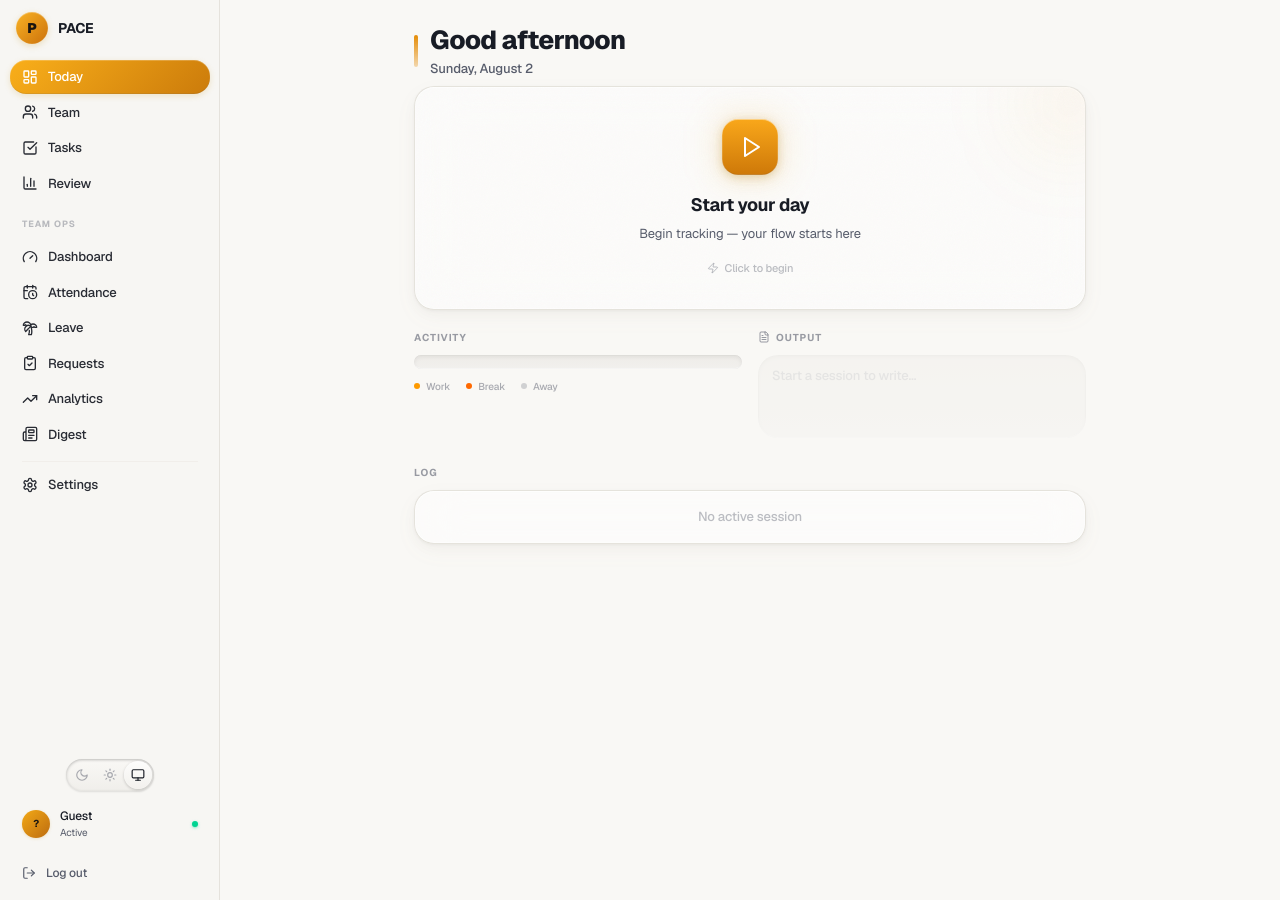
Scenario: Sidebar navigation › navigates to /review when Review nav item is clicked
The width and height of the screenshot is (1280, 900).
Step 1. Click the link "Review" → (57, 183), box [22, 174, 91, 192]
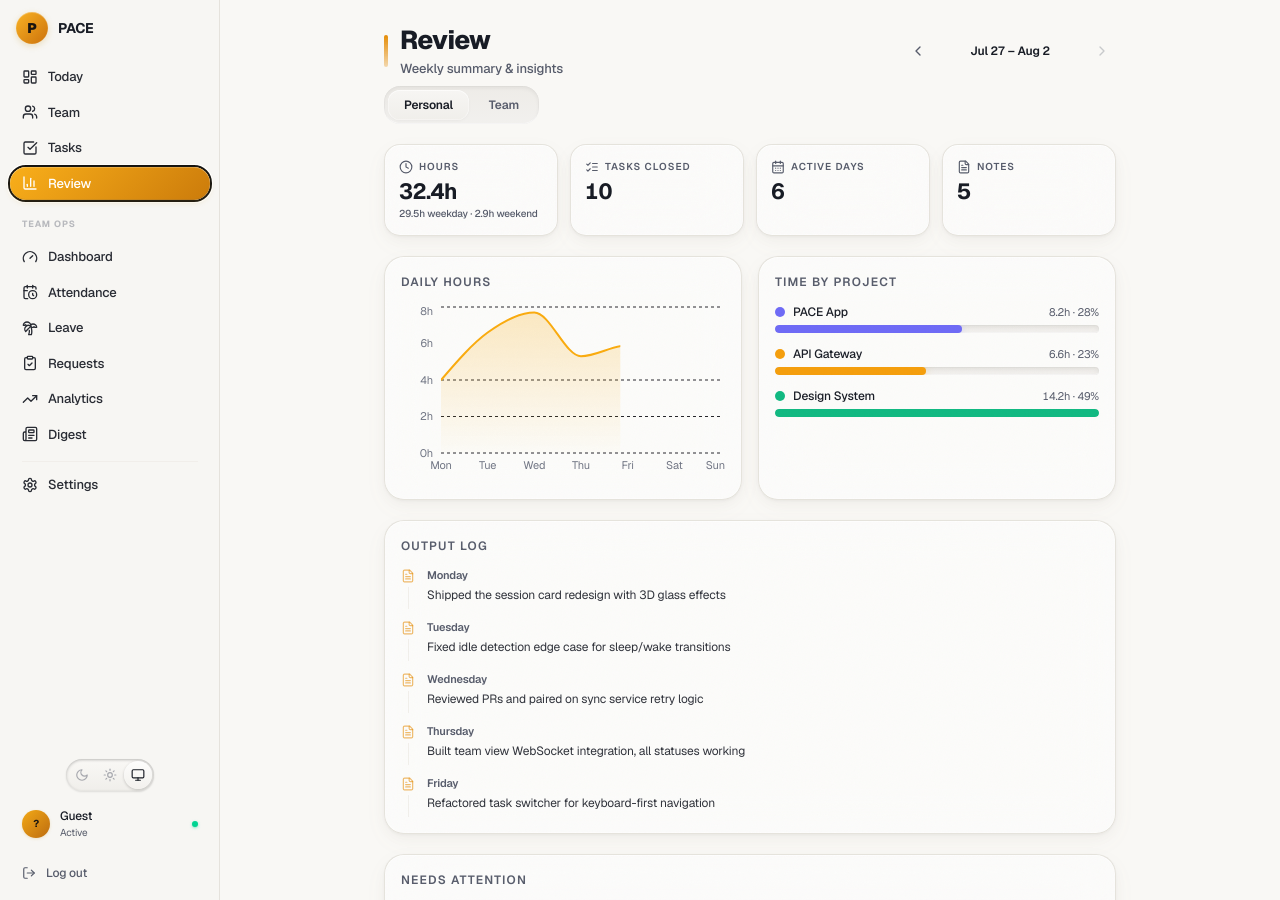
Expected: the heading "Review" is shown, [400, 23, 490, 57]
